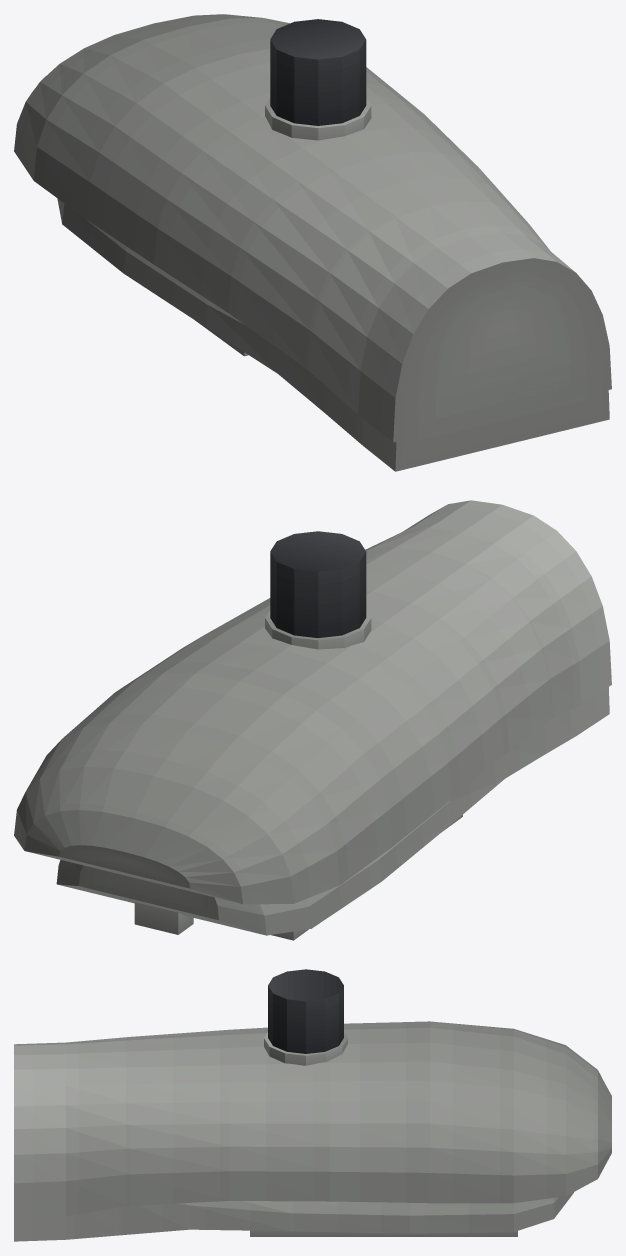
Rendered from streetlight_gem400cu.obj.
3 views of the same model, one above another, from view 1: azimuth 30°, elevation 25°; view 2: azimuth 150°, elevation 25°; view 3: azimuth 270°, elevation 25° (orthographic). The views are drawn at different scales.
Parts seen in each view (by area): view 1: fixture; view 2: fixture; view 3: fixture.
Boxes of the visible parts, <box> form: fixture: <box>14,14,611,471</box>; fixture: <box>14,500,611,940</box>; fixture: <box>14,969,611,1241</box>.
Size of the model in its own units: 0.4375 by 0.3704 by 0.9344.
